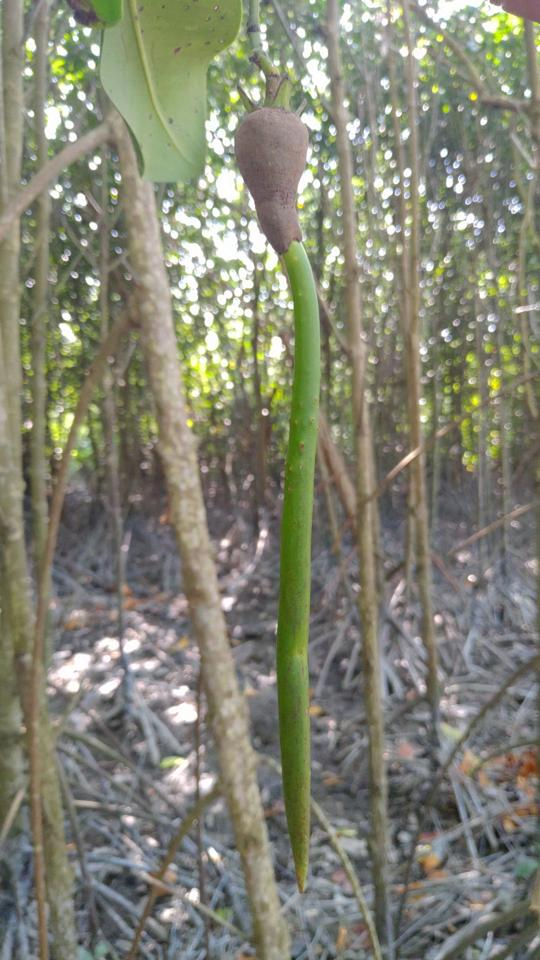mentah: (213, 82, 333, 899)
